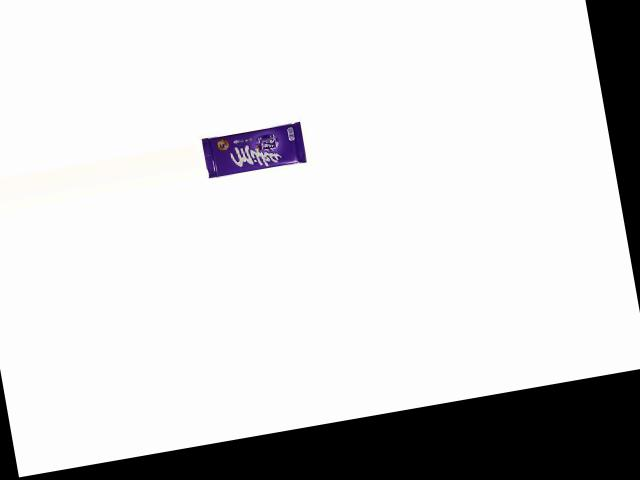chocolate: (200, 115, 312, 181)
